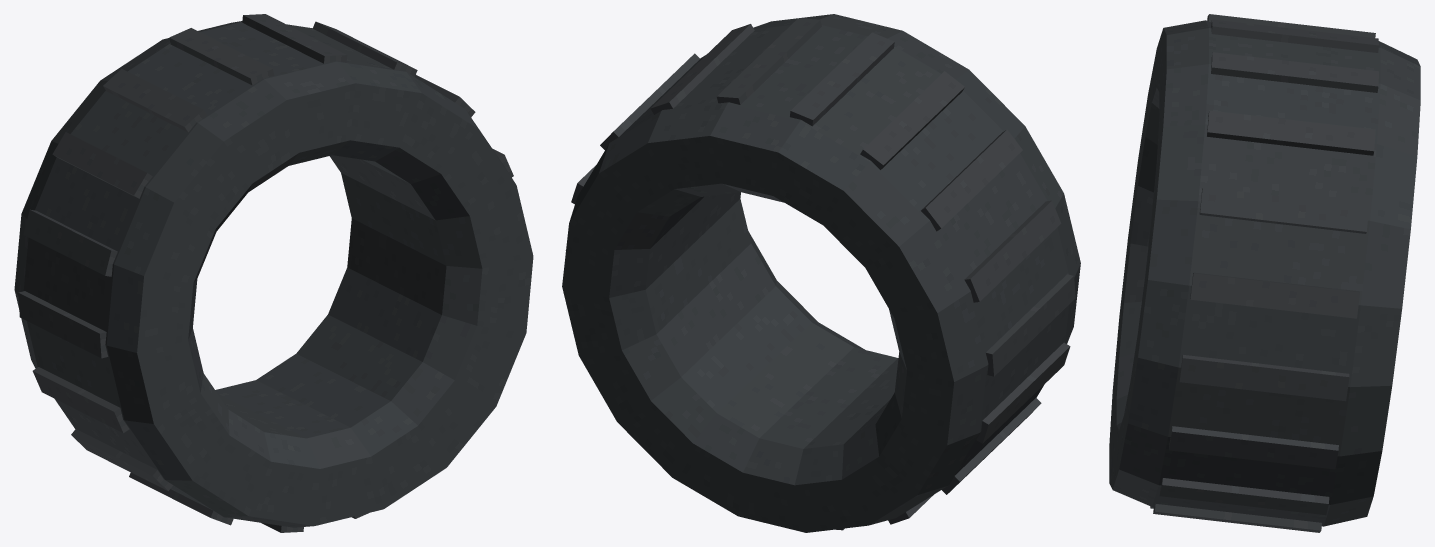
The model's file is tire_wide.glb.
3 views of the same model, side by side, from view 1: azimuth 30°, elevation 25°; view 2: azimuth 150°, elevation 25°; view 3: azimuth 270°, elevation 25° (orthographic). The views are drawn at different scales.
Visible parts, largest first — view 1: block_wheel cross section, block_tread block (×10); view 2: block_wheel cross section, block_tread block (×10); view 3: block_wheel cross section, block_tread block (×10).
Part boxes in pixels (box(x1,y1,x2,y2)): block_wheel cross section: box(14, 21, 533, 527); block_tread block (×10): box(18, 14, 417, 525); block_wheel cross section: box(562, 14, 1080, 532); block_tread block (×10): box(600, 18, 1075, 494); block_wheel cross section: box(1109, 20, 1420, 526); block_tread block (×10): box(1153, 14, 1378, 532).
Bounding box in the file's own units: 0.5933 × 0.61 × 0.3678.
1 material, 1 textured.
